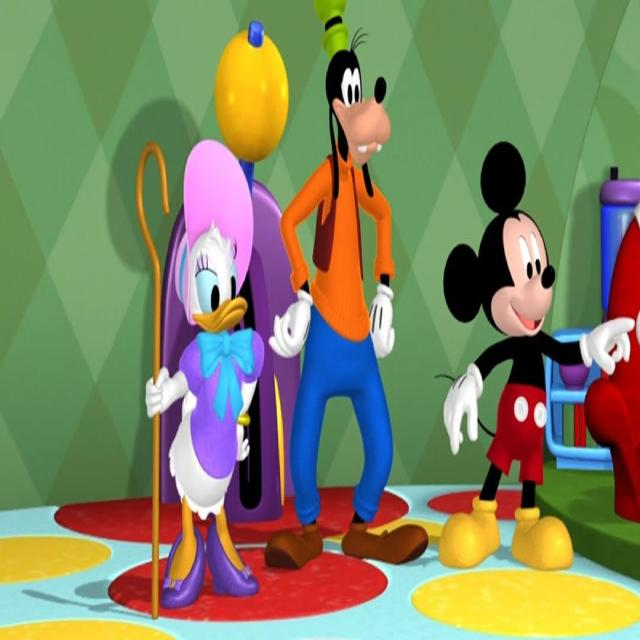mickey: (432, 123, 618, 579)
